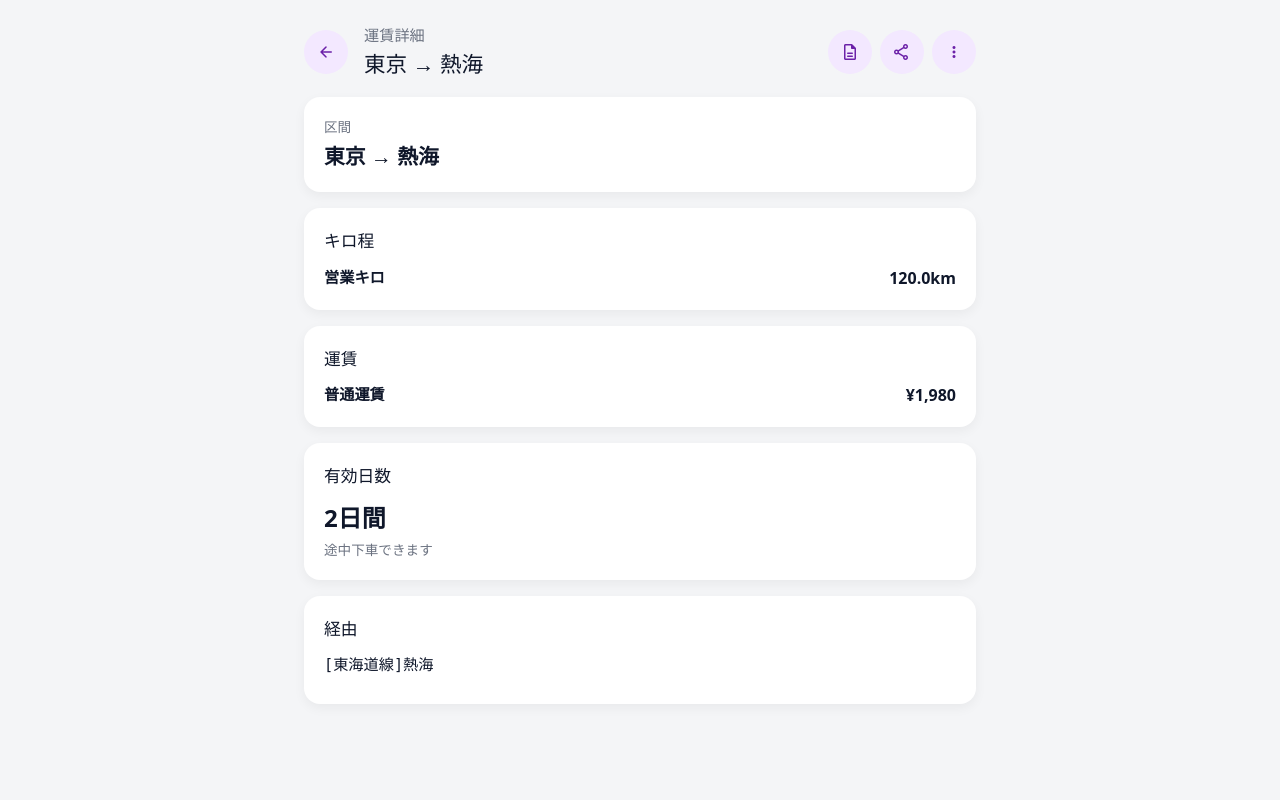
Scenario: /detail/+page.svelte › toggles city-station option and recalculates
This screenshot has width=1280, height=800.
Expected: the text "途中下車できます" is shown, [324,540,433,559]
Click the button named "メニュー": (954, 52) [932,30,976,74]
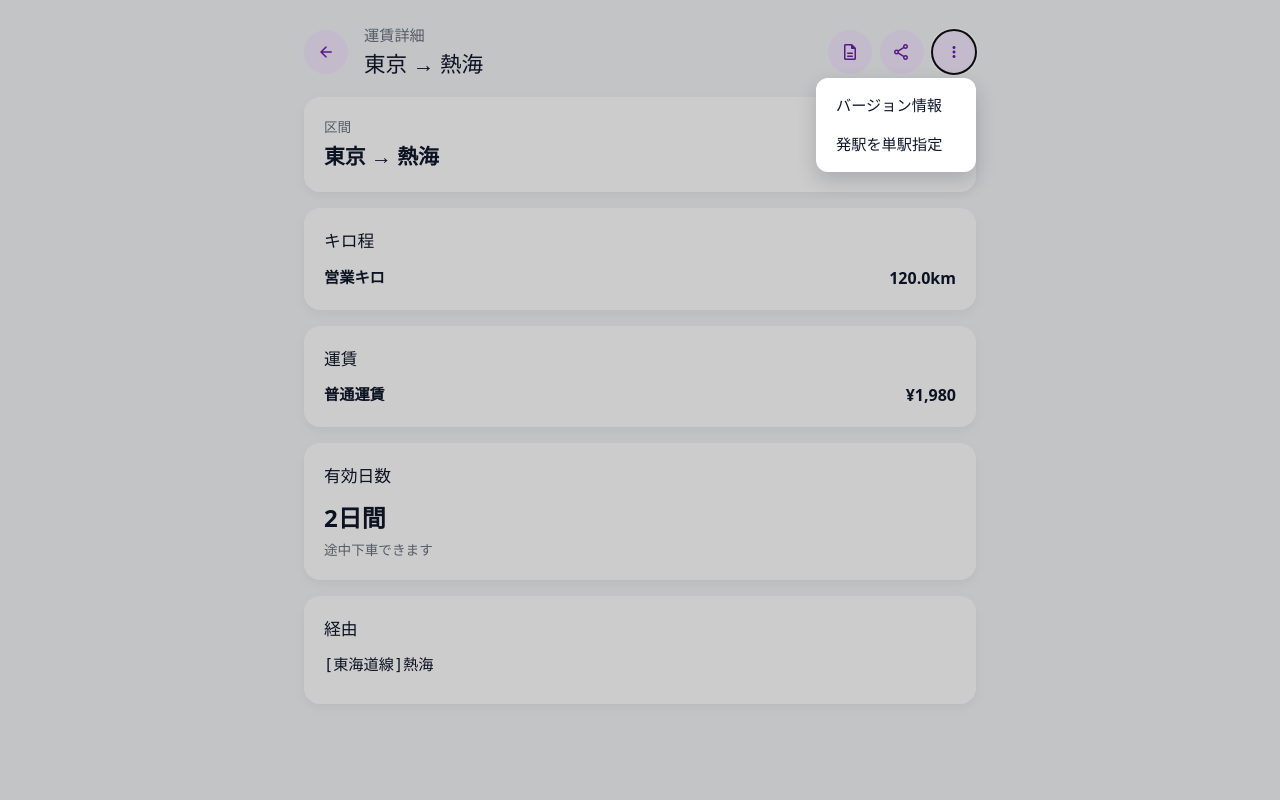
Result: the menu item "発駅を単駅指定" is shown
Click the menu item "発駅を単駅指定": (896, 145) [824,125,968,164]
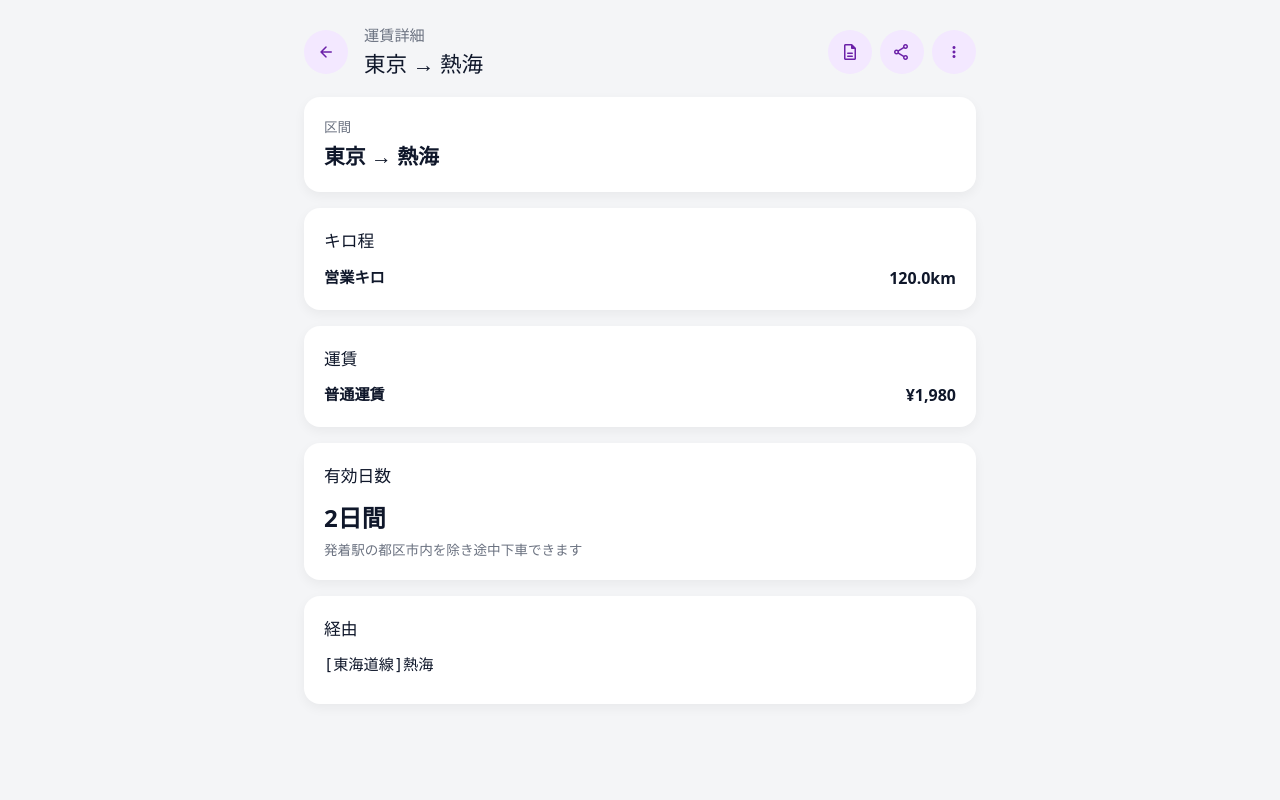
Result: the text "発着駅の都区市内を除き途中下車できます" is shown at [324,540,582,559]
